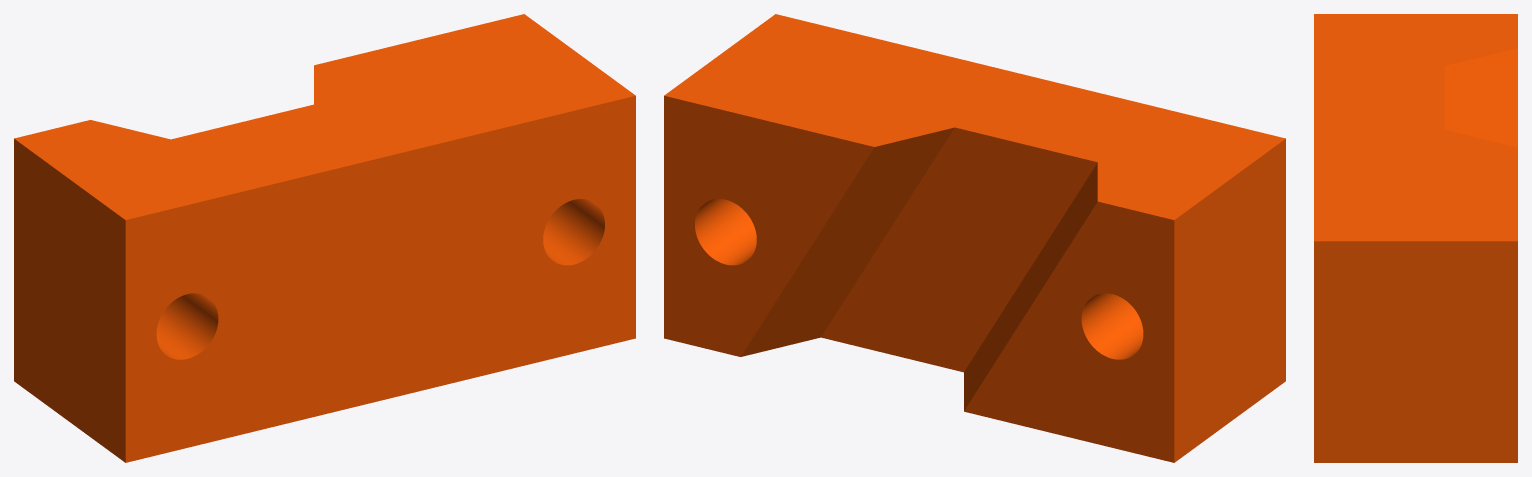
3 views of the same model, side by side, from view 1: azimuth 30°, elevation 25°; view 2: azimuth 150°, elevation 25°; view 3: azimuth 270°, elevation 25° (orthographic). The views are drawn at different scales.
Visible parts, largest first — view 1: 切除-拉伸2; view 2: 切除-拉伸2; view 3: 切除-拉伸2.
Boxes of the visible parts, <box> form: 切除-拉伸2: <box>14,14,635,462</box>; 切除-拉伸2: <box>664,14,1285,462</box>; 切除-拉伸2: <box>1314,14,1517,462</box>.
Bounding box in the file's own units: 5.2 × 2.36 × 1.97.
